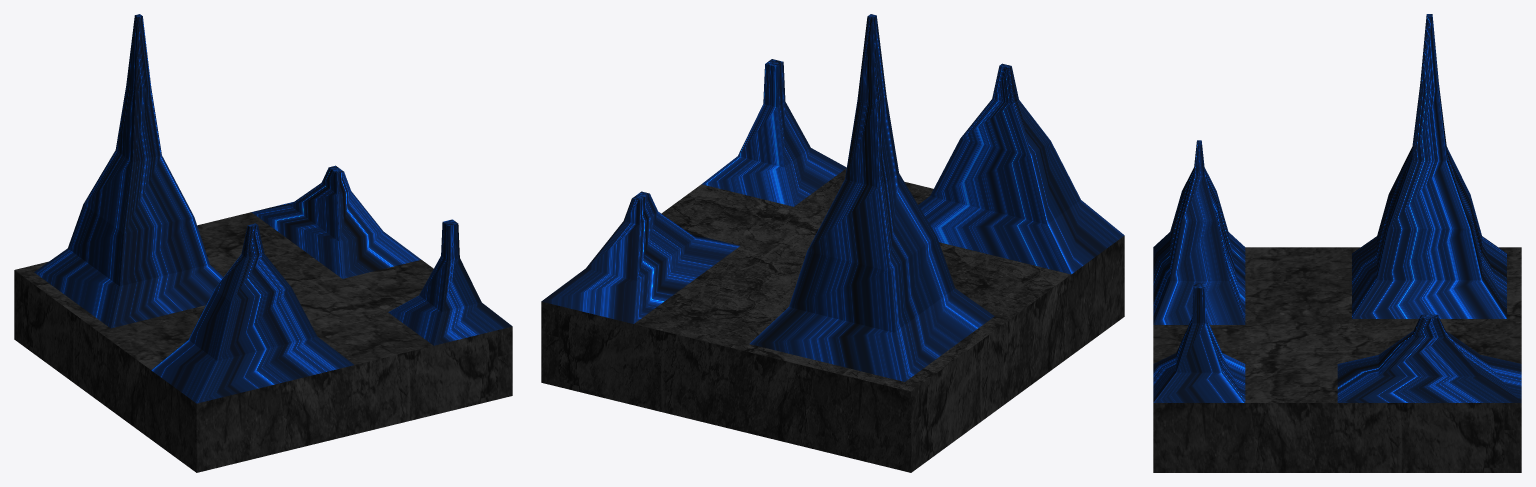
Rendered from EmptySpace5.fbx.
3 renders of one model, left to right at view 1: azimuth 30°, elevation 25°; view 2: azimuth 150°, elevation 25°; view 3: azimuth 270°, elevation 25°, orthographic. The views are drawn at different scales.
Parts seen in each view (by area): view 1: blankspace6; view 2: blankspace6; view 3: blankspace6.
Part boxes in pixels (x1=…): blankspace6: x1=14, y1=14, x2=512, y2=472; blankspace6: x1=541, y1=14, x2=1124, y2=472; blankspace6: x1=1153, y1=14, x2=1521, y2=472.
Bounding box in the file's own units: 100 × 102 × 100.
2 materials, 2 textured.
